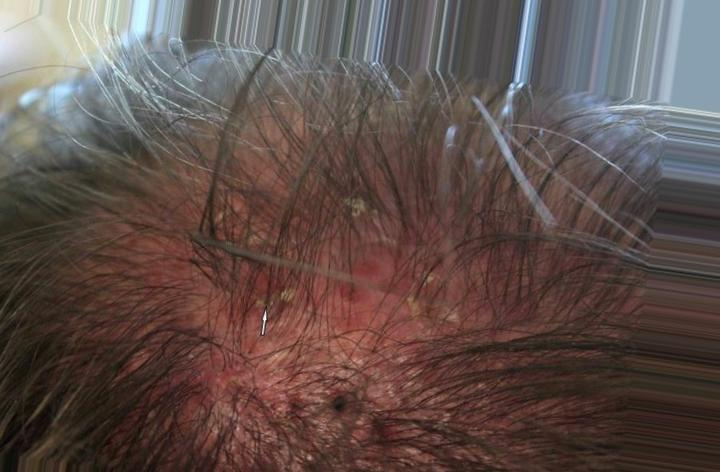Folliculitis: (158, 224, 411, 389)
